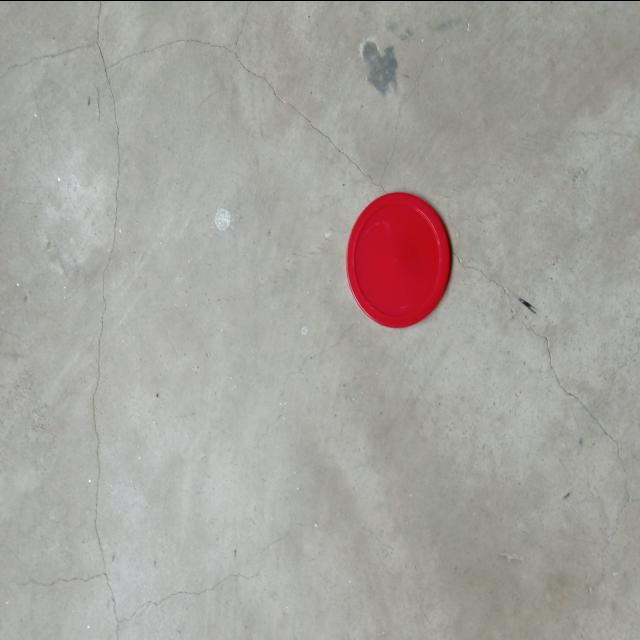chip: (346, 190, 452, 331)
